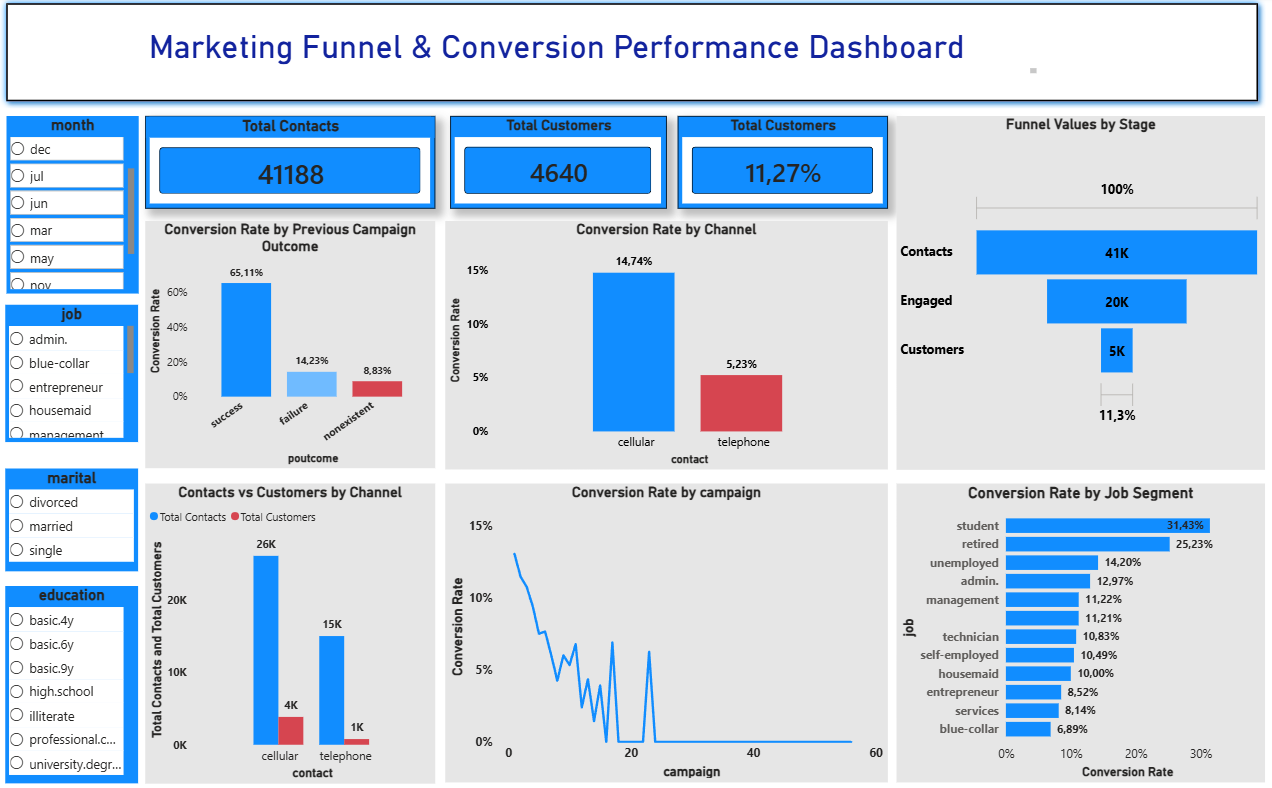

The dashboard page shown, as its layout file describes it:
{"tool":"powerbi","page":{"name":"Page 1","canvas":[1600,997],"ordinal":0},"visuals":[{"type":"shape","box":[0,0,1586,140.9],"z":0},{"type":"textbox","title":"Marketing Funnel & Conversion Performance Dashboard","box":[92.2,39.1,1212.5,62.5],"z":1000},{"type":"cardVisual","title":"Total Contacts","fields":{"Data":["cleaned_bank_data.Total Contacts"]},"box":[183.2,150.3,363.2,115.9],"z":2000},{"type":"cardVisual","title":"Total Customers","fields":{"Data":["cleaned_bank_data.Total Customers"]},"box":[565.2,150.3,270.9,115.9],"z":3000},{"type":"cardVisual","title":"Total Customers","fields":{"Data":["cleaned_bank_data.Conversion Rate"]},"box":[850.1,150.3,263,115.9],"z":4000},{"type":"funnel","fields":{"Category":["Funnel Stage.Stage"],"Y":["Funnel Stage.Funnel Values"]},"box":[1124.1,150.3,461.9,443.1],"z":5000},{"type":"clusteredColumnChart","title":"Conversion Rate by  Channel","fields":{"Y":["cleaned_bank_data.Conversion Rate"],"Category":["cleaned_bank_data.contact"]},"box":[558.9,281.8,554.2,311.6],"z":6000},{"type":"lineChart","fields":{"Y":["cleaned_bank_data.Conversion Rate"],"Category":["cleaned_bank_data.campaign"]},"box":[558.9,610.6,554.2,374.2],"z":7000},{"type":"clusteredColumnChart","title":"Contacts vs Customers by Channel","fields":{"Category":["cleaned_bank_data.contact"],"Y":["cleaned_bank_data.Total Contacts","cleaned_bank_data.Total Customers"]},"box":[183.2,610.6,363.2,375.8],"z":8000},{"type":"clusteredBarChart","title":"Conversion Rate by Job Segment","fields":{"Category":["cleaned_bank_data.job"],"Y":["cleaned_bank_data.Conversion Rate"]},"box":[1124.1,610.6,461.9,374.2],"z":9000},{"type":"columnChart","title":"Conversion Rate by Previous Campaign Outcome","fields":{"Category":["cleaned_bank_data.poutcome"],"Y":["cleaned_bank_data.Conversion Rate"]},"box":[183.2,281.8,363.2,310],"z":9001},{"type":"listSlicer","fields":{"Values":["cleaned_bank_data.month"]},"box":[9.4,150.3,166,222.3],"z":9002},{"type":"listSlicer","fields":{"Values":["cleaned_bank_data.job"]},"box":[8.6,386.4,166.6,171.7],"z":9003},{"type":"listSlicer","fields":{"Values":["cleaned_bank_data.marital"]},"box":[8.6,592.4,166.6,128.8],"z":9004},{"type":"listSlicer","fields":{"Values":["cleaned_bank_data.education"]},"box":[8.6,738.4,166.6,247.3],"z":9005}]}

Visuals, with their boxes in screenshot pixels (x1, y1, x2, y2), scaled from the page's 1600x997 canvas onto the 1272x788 screenshot:
shape: 0, 0, 1261, 111
"Marketing Funnel & Conversion Performance Dashboard" textbox: 73, 31, 1037, 80
"Total Contacts" cardVisual: 146, 119, 434, 210
"Total Customers" cardVisual: 449, 119, 665, 210
"Total Customers" cardVisual: 676, 119, 885, 210
funnel - Funnel Stage.Stage x Funnel Stage.Funnel Values: 894, 119, 1261, 469
"Conversion Rate by  Channel" clusteredColumnChart: 444, 223, 885, 469
lineChart - cleaned_bank_data.Conversion Rate x cleaned_bank_data.campaign: 444, 483, 885, 778
"Contacts vs Customers by Channel" clusteredColumnChart: 146, 483, 434, 780
"Conversion Rate by Job Segment" clusteredBarChart: 894, 483, 1261, 778
"Conversion Rate by Previous Campaign Outcome" columnChart: 146, 223, 434, 468
listSlicer - cleaned_bank_data.month: 7, 119, 139, 294
listSlicer - cleaned_bank_data.job: 7, 305, 139, 441
listSlicer - cleaned_bank_data.marital: 7, 468, 139, 570
listSlicer - cleaned_bank_data.education: 7, 584, 139, 779
